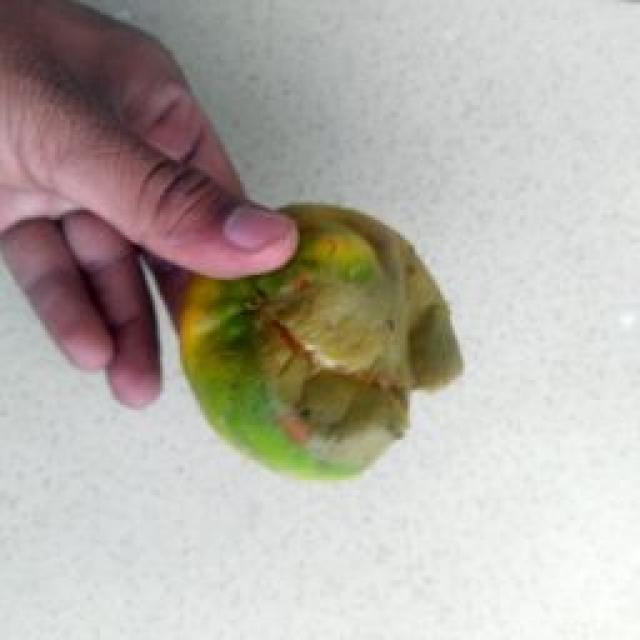Bad_Orange: (180, 205, 462, 478)
